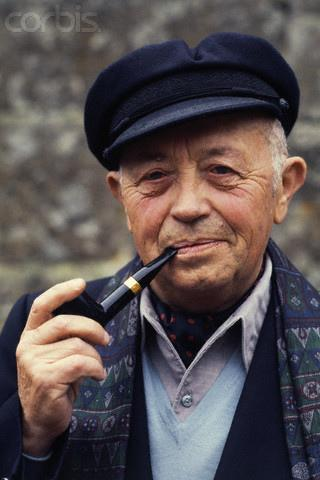trubka: (54, 248, 176, 326)
